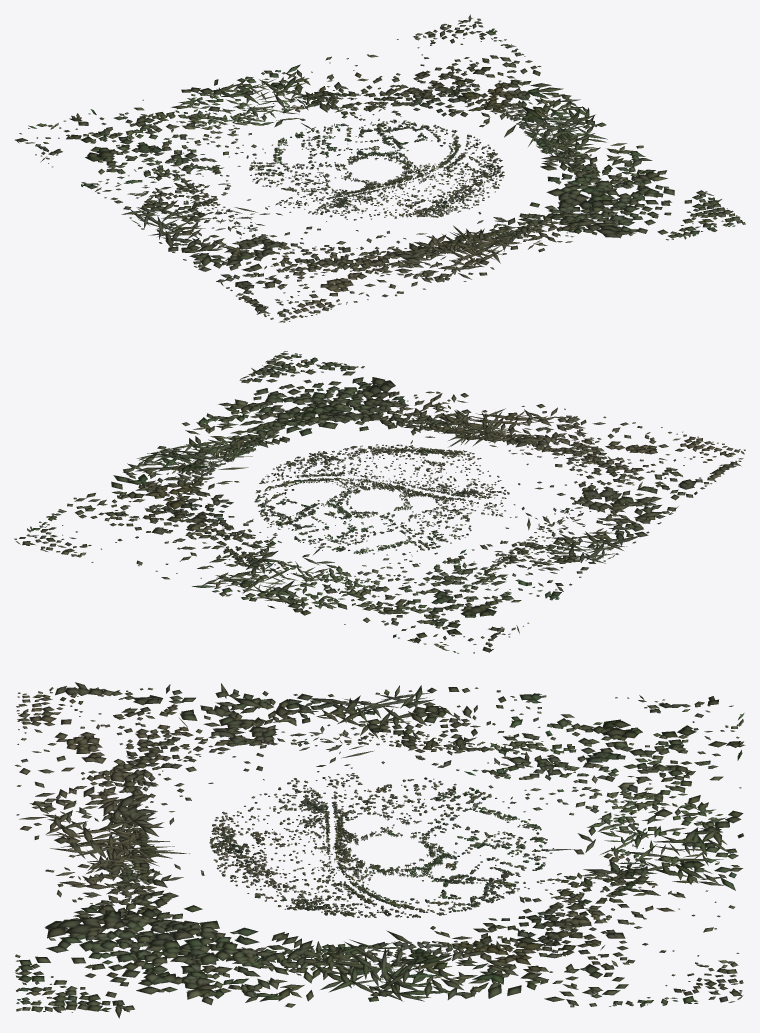
The model's file is bruce_backdrop_part2.glb.
3 views of the same model, one above another, from view 1: azimuth 30°, elevation 25°; view 2: azimuth 150°, elevation 25°; view 3: azimuth 270°, elevation 25° (orthographic). The views are drawn at different scales.
Parts seen in each view (by area): view 1: bg_trees_joined_s11, bg_trees_joined_s12, bg_trees_joined_s10, bg_trees_joined_s09, bg_trees_joined_s08, bg_trees_joined_s14, bg_trees_joined_s15, bg_trees_joined_s13, bg_trees_joined_s03, bg_trees_joined_s02, bg_trees_joined_s00, bg_trees_joined_s01 (+4 smaller); view 2: bg_trees_joined_s11, bg_trees_joined_s10, bg_trees_joined_s12, bg_trees_joined_s08, bg_trees_joined_s14, bg_trees_joined_s09, bg_trees_joined_s15, bg_trees_joined_s13, bg_trees_joined_s03, bg_trees_joined_s00, bg_trees_joined_s02, bg_trees_joined_s01 (+4 smaller); view 3: bg_trees_joined_s11, bg_trees_joined_s10, bg_trees_joined_s12, bg_trees_joined_s09, bg_trees_joined_s14, bg_trees_joined_s08, bg_trees_joined_s15, bg_trees_joined_s13, bg_trees_joined_s03, bg_trees_joined_s02, bg_trees_joined_s00, bg_trees_joined_s01 (+4 smaller).
Boxes of the visible parts, bbox=[...] form: bg_trees_joined_s11: bbox=[493, 121, 742, 221]; bg_trees_joined_s12: bbox=[416, 18, 595, 138]; bg_trees_joined_s10: bbox=[453, 187, 745, 263]; bg_trees_joined_s09: bbox=[279, 216, 497, 322]; bg_trees_joined_s08: bbox=[141, 203, 326, 319]; bg_trees_joined_s14: bbox=[19, 78, 315, 158]; bg_trees_joined_s15: bbox=[14, 137, 251, 228]; bg_trees_joined_s13: bbox=[245, 14, 473, 127]; bg_trees_joined_s03: bbox=[400, 144, 504, 185]; bg_trees_joined_s02: bbox=[388, 175, 498, 216]; bg_trees_joined_s00: bbox=[277, 178, 369, 217]; bg_trees_joined_s01: bbox=[345, 181, 438, 220]; bg_trees_joined_s11: bbox=[157, 352, 337, 468]; bg_trees_joined_s10: bbox=[284, 351, 505, 446]; bg_trees_joined_s12: bbox=[14, 449, 263, 539]; bg_trees_joined_s08: bbox=[501, 452, 743, 554]; bg_trees_joined_s14: bbox=[248, 546, 474, 653]; bg_trees_joined_s09: bbox=[458, 404, 745, 470]; bg_trees_joined_s15: bbox=[423, 527, 616, 652]; bg_trees_joined_s13: bbox=[16, 516, 315, 599]; bg_trees_joined_s03: bbox=[273, 448, 375, 493]; bg_trees_joined_s00: bbox=[401, 480, 509, 516]; bg_trees_joined_s02: bbox=[350, 444, 443, 491]; bg_trees_joined_s01: bbox=[393, 449, 501, 497]; bg_trees_joined_s11: bbox=[22, 908, 388, 1018]; bg_trees_joined_s10: bbox=[15, 844, 256, 1011]; bg_trees_joined_s12: bbox=[364, 908, 734, 1007]; bg_trees_joined_s09: bbox=[15, 692, 216, 854]; bg_trees_joined_s14: bbox=[510, 705, 745, 857]; bg_trees_joined_s08: bbox=[33, 682, 386, 780]; bg_trees_joined_s15: bbox=[368, 685, 718, 794]; bg_trees_joined_s13: bbox=[503, 848, 743, 999]; bg_trees_joined_s03: bbox=[264, 857, 379, 917]; bg_trees_joined_s02: bbox=[210, 839, 356, 898]; bg_trees_joined_s00: bbox=[266, 773, 380, 840]; bg_trees_joined_s01: bbox=[210, 793, 358, 848].
Size of the model in its own units: 3061 by 122 by 3025.
Materials: 1 (1 with a texture image).
